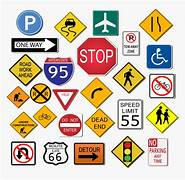right: (80, 78, 113, 108)
stop: (75, 37, 119, 76)
